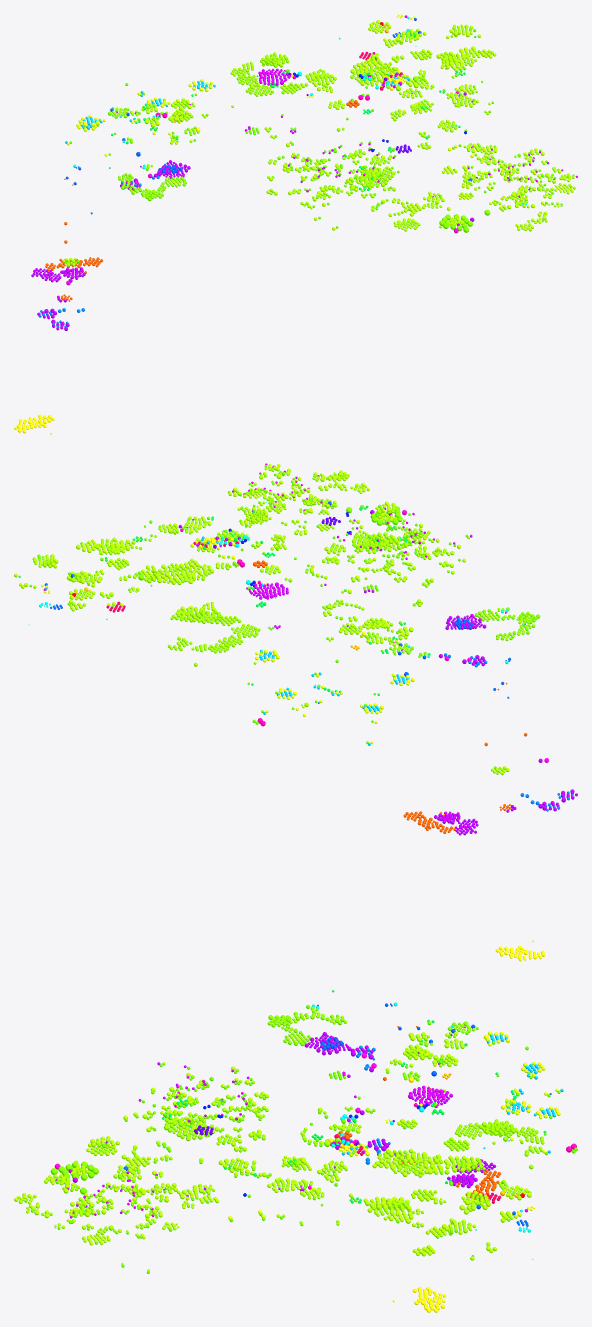
File: task-208f5d391-layout.gltf
3 views of the same model, one above another, from view 1: azimuth 30°, elevation 25°; view 2: azimuth 150°, elevation 25°; view 3: azimuth 270°, elevation 25° (orthographic). The views are drawn at different scales.
Visible parts, largest first — view 1: normal_c_files, normal_h_files, normal_txt_files, normal_png_files, normal_cmake_files, normal_m_files, normal_cpp_files; view 2: normal_c_files, normal_h_files, normal_txt_files, normal_png_files, normal_cmake_files, normal_m_files, normal_cpp_files, normal_xml_files; view 3: normal_c_files, normal_h_files, normal_txt_files, normal_png_files, normal_cmake_files, normal_m_files, normal_cpp_files, normal_bmp_files, normal_xml_files, normal_java_files, normal_in_files, normal_hpp_files.
Part boxes in pixels (x1,y1,x2,y2): normal_c_files: (62,20,575,266); normal_h_files: (65,21,566,264); normal_txt_files: (69,26,574,262); normal_png_files: (31,82,474,330); normal_cmake_files: (116,15,577,197); normal_m_files: (108,107,553,208); normal_cpp_files: (67,70,473,157); normal_c_files: (14,464,509,775); normal_h_files: (33,467,535,774); normal_txt_files: (29,465,509,769); normal_png_files: (178,510,577,835); normal_cmake_files: (43,463,506,651); normal_m_files: (271,472,540,657); normal_cpp_files: (190,543,414,744); normal_xml_files: (253,560,527,833); normal_c_files: (14,1031,531,1270); normal_h_files: (36,1009,544,1237); normal_txt_files: (24,1005,577,1273); normal_png_files: (68,1032,496,1191); normal_cmake_files: (55,1004,527,1218); normal_m_files: (83,1006,478,1207); normal_cpp_files: (228,1031,560,1219); normal_bmp_files: (50,1071,420,1210); normal_xml_files: (337,1026,502,1199); normal_java_files: (392,1287,446,1312); normal_in_files: (162,990,546,1256); normal_hpp_files: (487,1034,563,1153).
Bounding box in the file's own units: 397 × 236 × 335.
